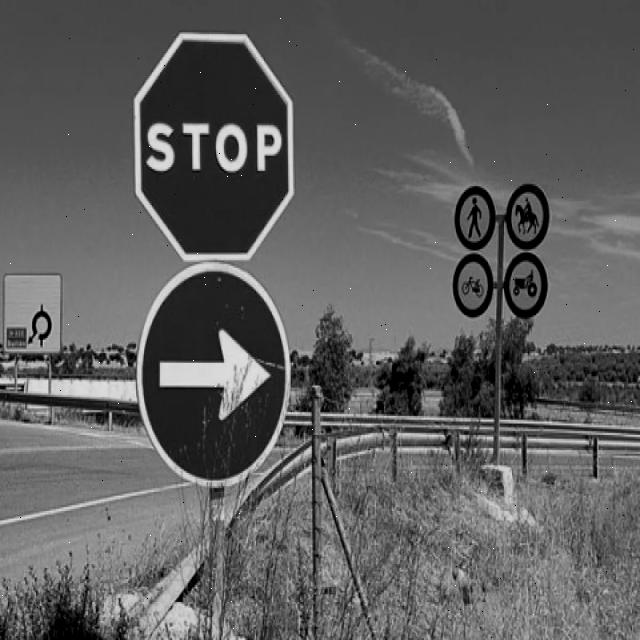Stop-sign: (125, 21, 298, 266)
